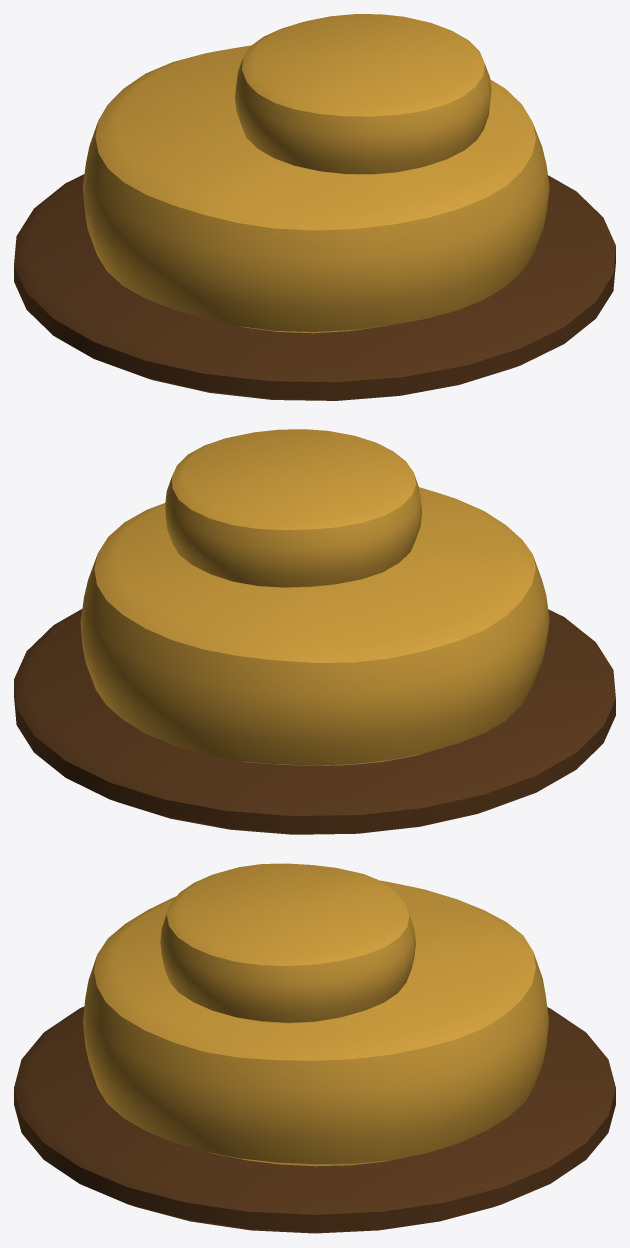
File: kaeselaib.glb
3 renders of one model, top to bottom at view 1: azimuth 30°, elevation 25°; view 2: azimuth 150°, elevation 25°; view 3: azimuth 270°, elevation 25°, orthographic.
Visible parts, largest first — view 1: kaeselaib; view 2: kaeselaib; view 3: kaeselaib.
Boxes of the visible parts, bbox=[...] form: kaeselaib: bbox=[14, 14, 615, 400]; kaeselaib: bbox=[14, 429, 615, 834]; kaeselaib: bbox=[14, 863, 615, 1233].
Bounding box in the file's own units: 0.45 × 0.182 × 0.45.
